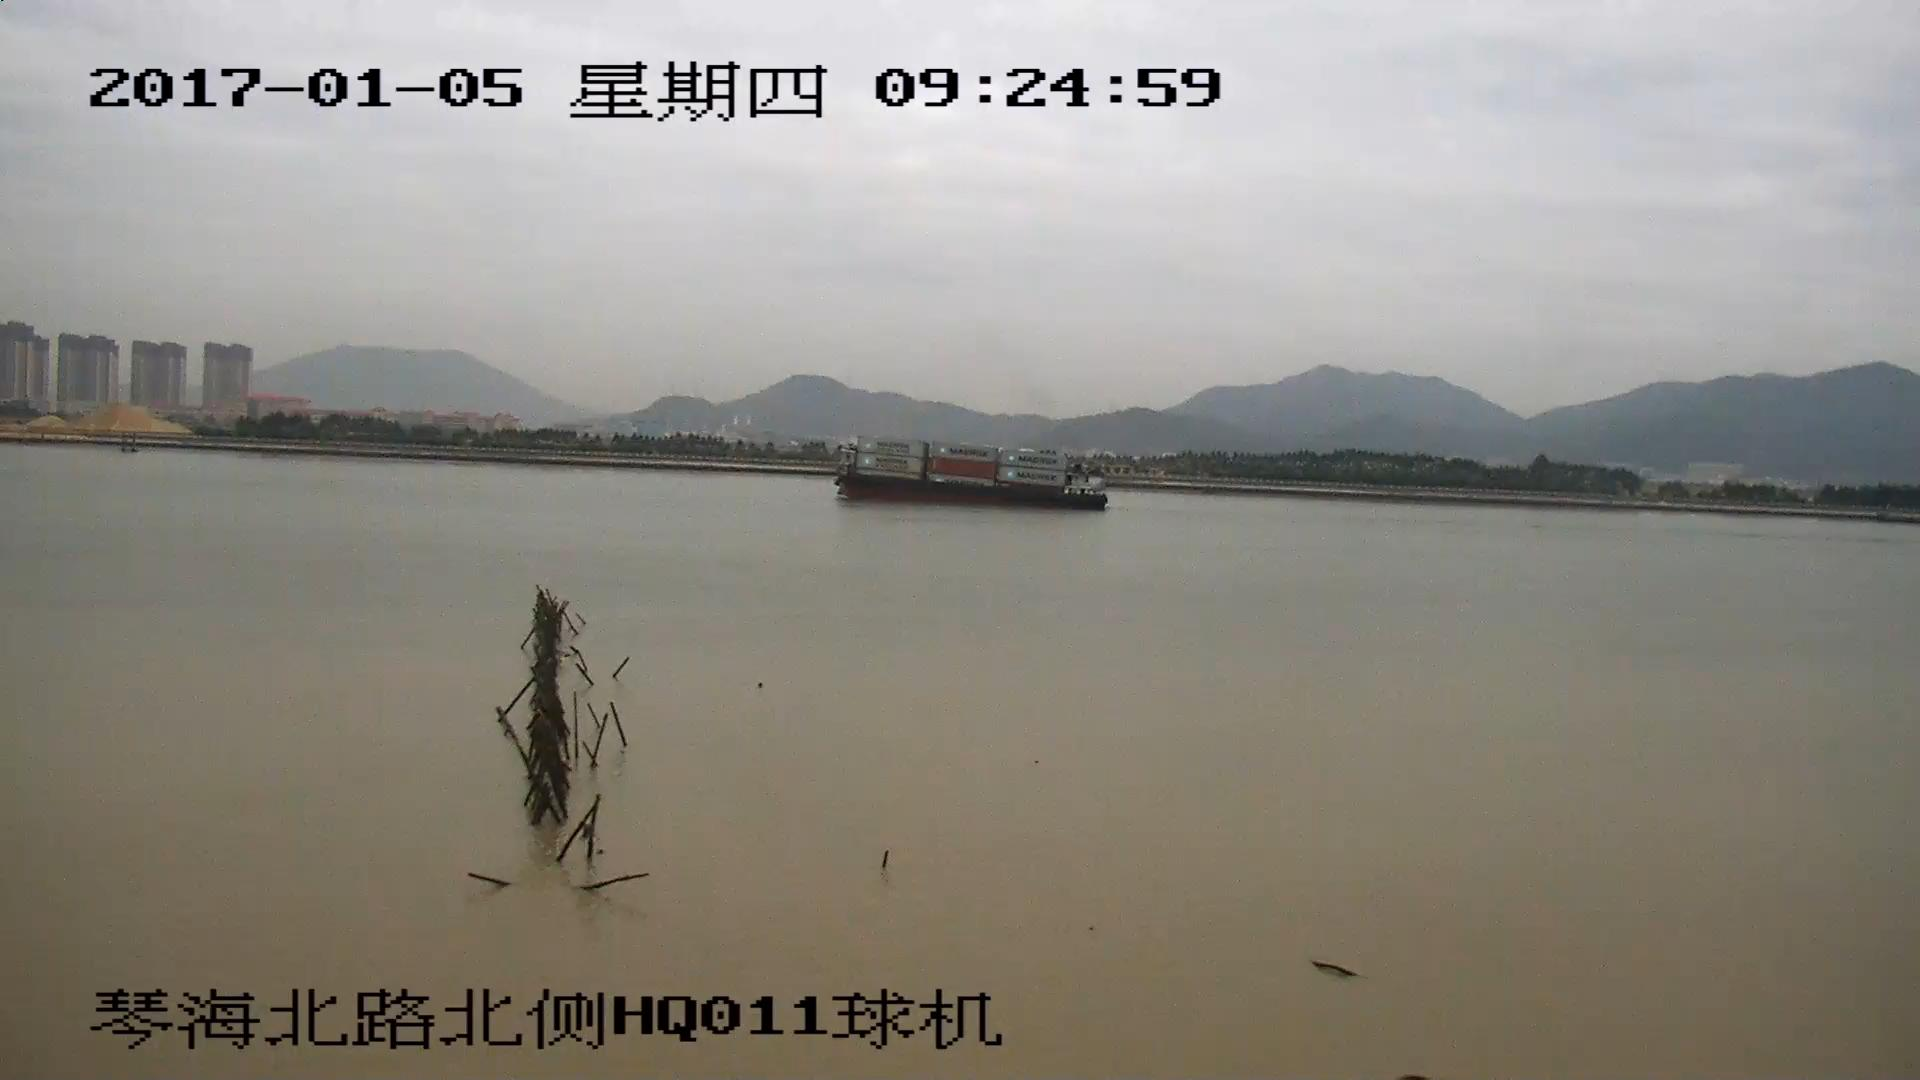container ship: (828, 437, 1108, 507)
